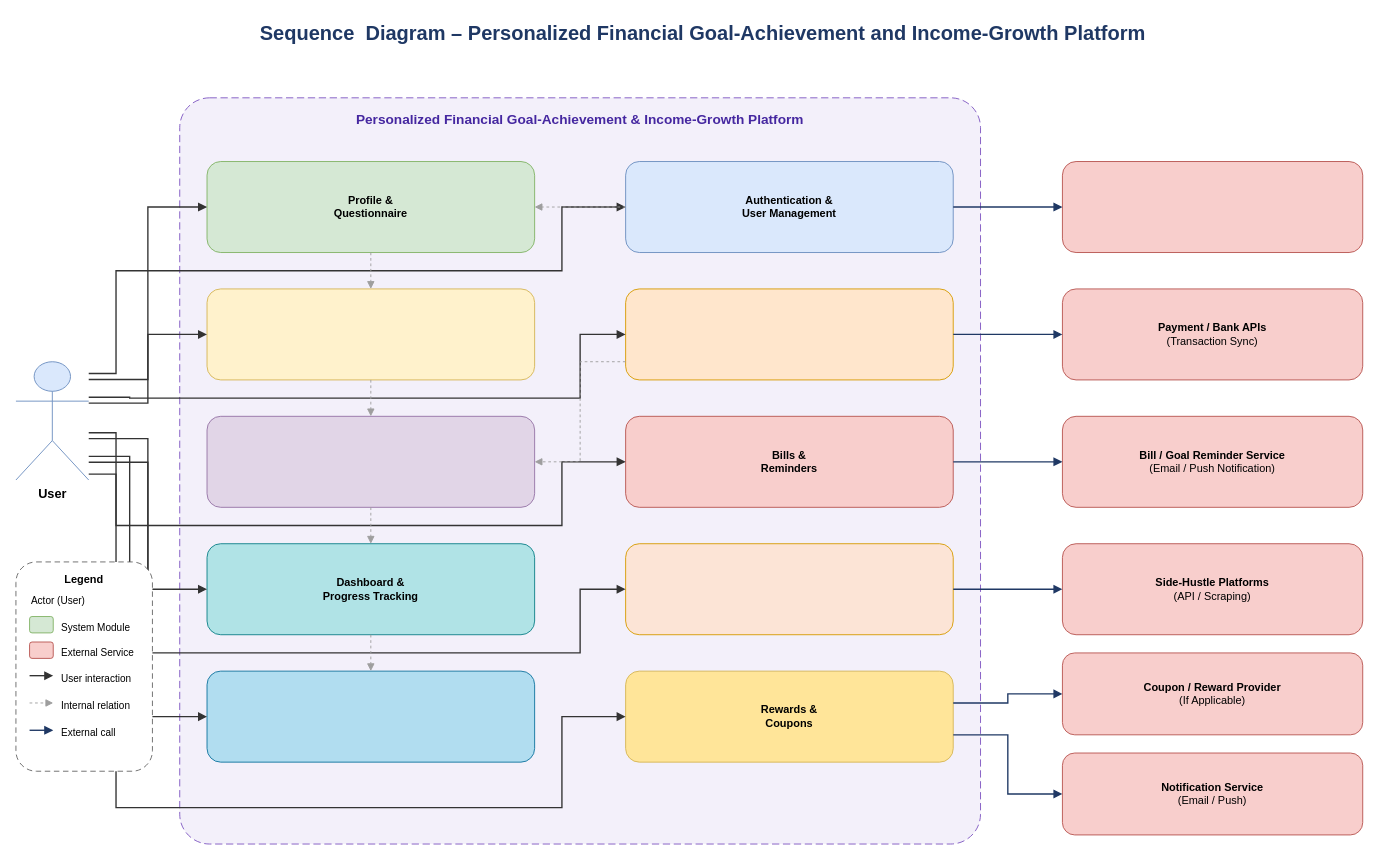
Some shapes in this 1379 by 860 pixel diagram are drawn without their labels. Each missing label, with the centre of its shape:
Authentication Service (Login / Sign Up / OTP): point (1212, 207)
Financial Goals & Targets: point (370, 334)
Income & Expense Management: point (789, 334)
Personalized Financial Planning: point (370, 461)
Reports & Financial Insights: point (370, 716)
Side-Hustle Recommendations: point (789, 589)
